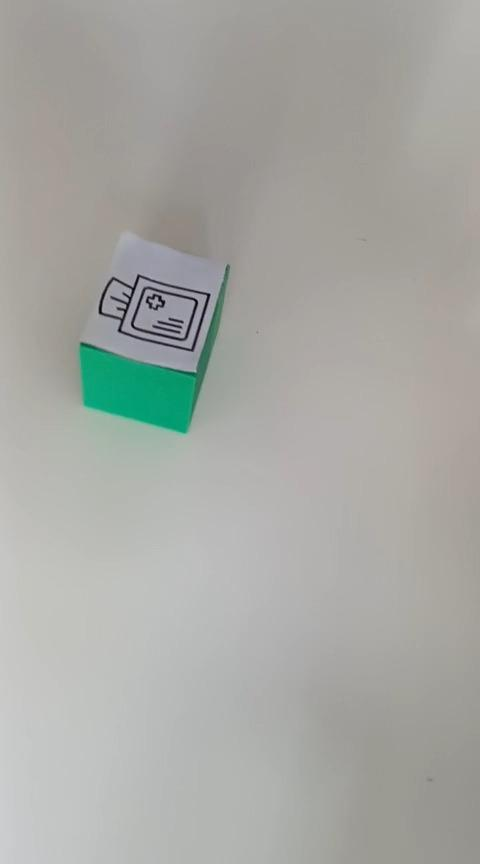Gauze: (77, 228, 230, 434)
